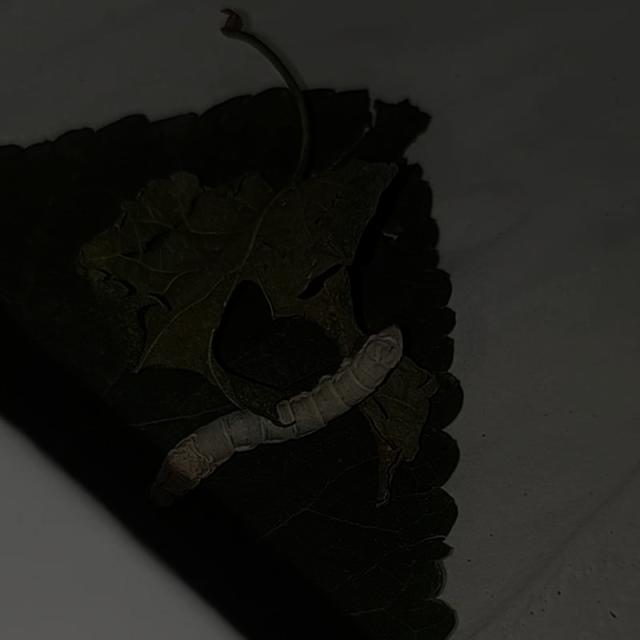Healthy: (136, 320, 413, 509)
